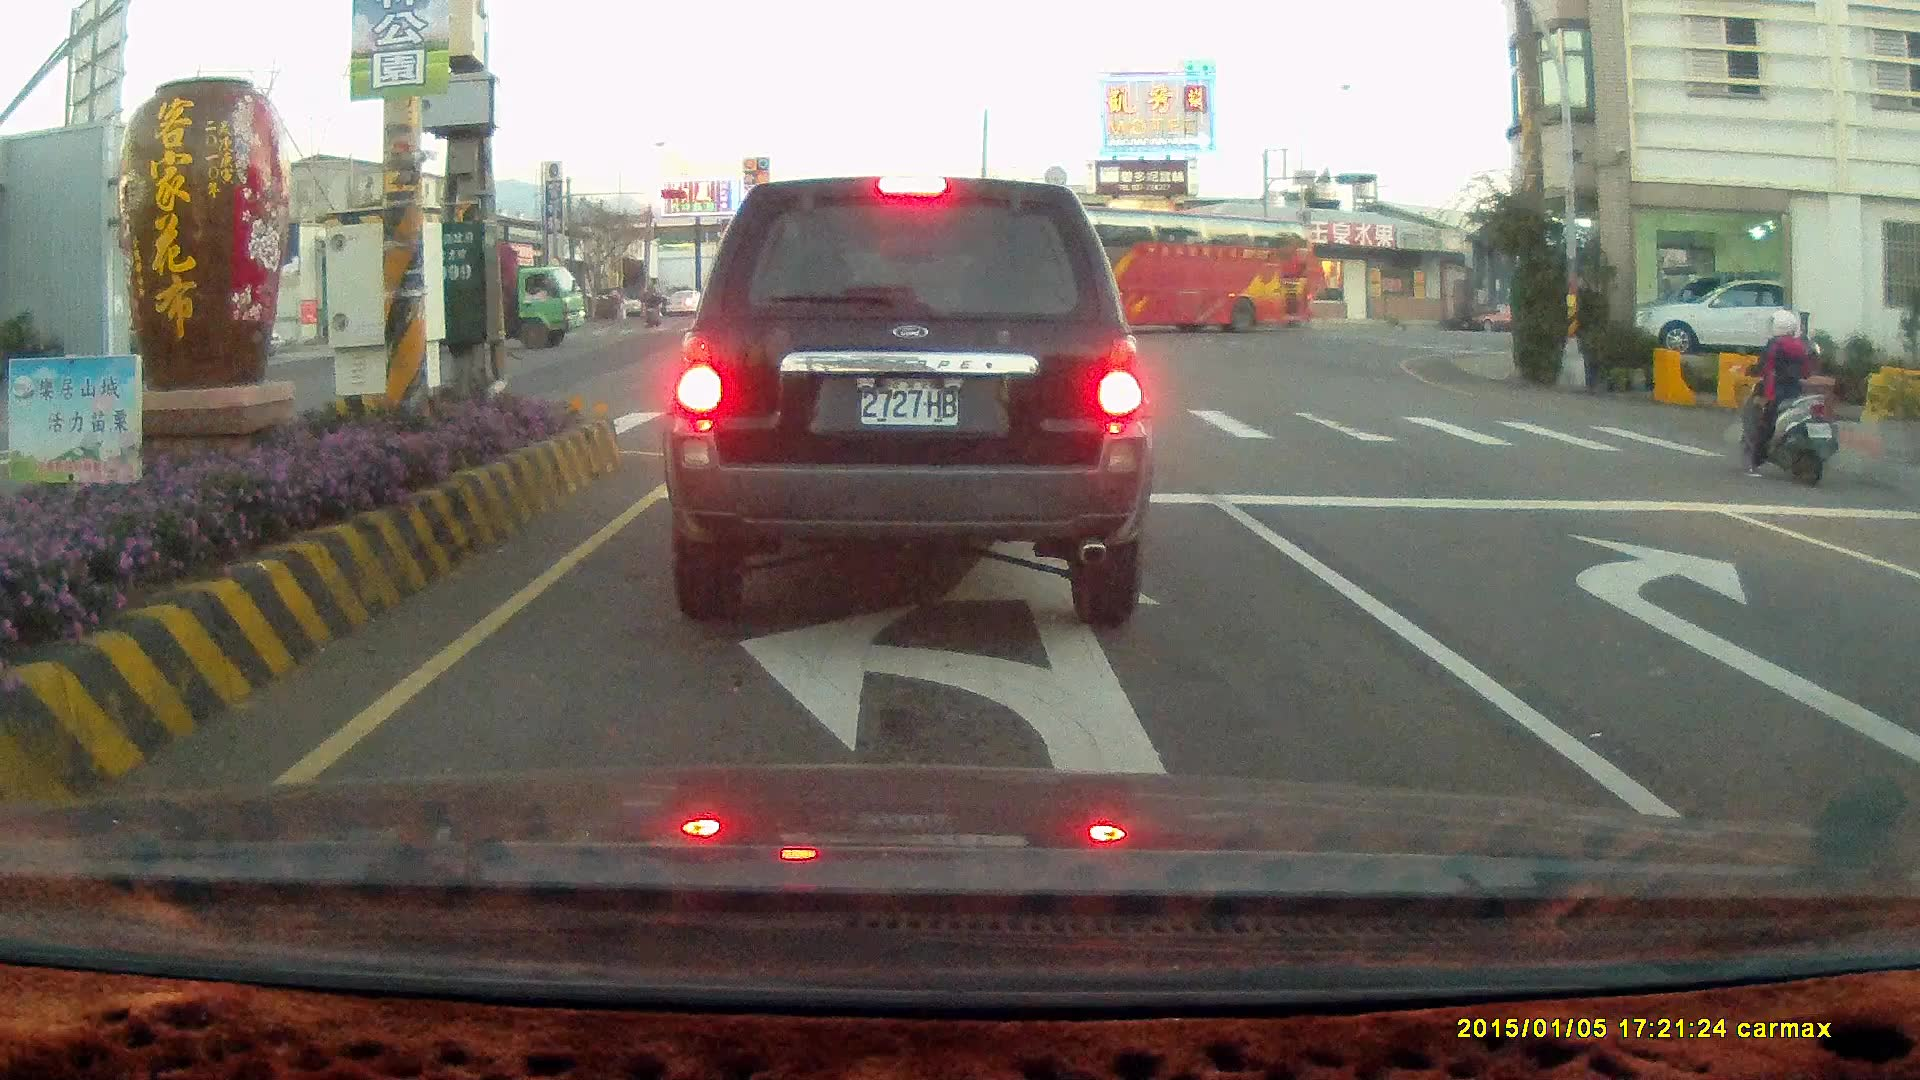rider: (1726, 304, 1841, 487), (642, 289, 663, 326)
vehicle: (660, 173, 1154, 630), (1004, 214, 1325, 336), (1625, 275, 1831, 354), (1642, 275, 1784, 356), (500, 254, 589, 350), (1896, 493, 1920, 836), (1883, 528, 1920, 690)
